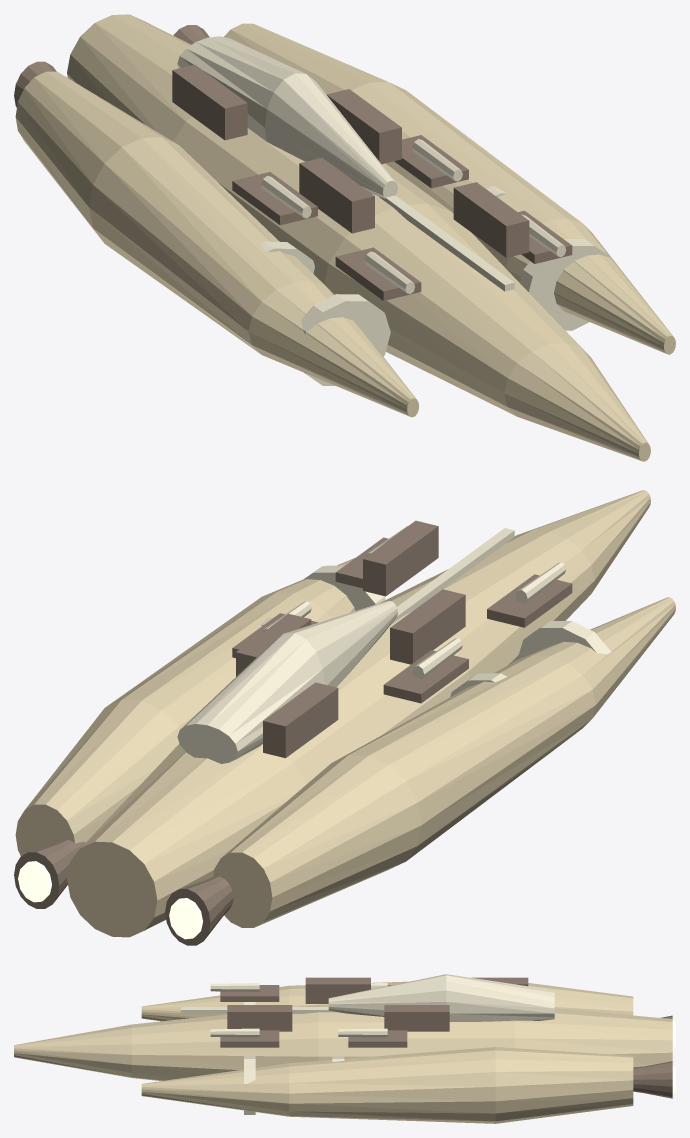
The picture shows the model from 3 angles, top to bottom: view 1: azimuth 30°, elevation 25°; view 2: azimuth 150°, elevation 25°; view 3: azimuth 270°, elevation 25°; orthographic projection. The views are drawn at different scales.
Size of the model in its own units: 9.14 by 4.75 by 24.4.
